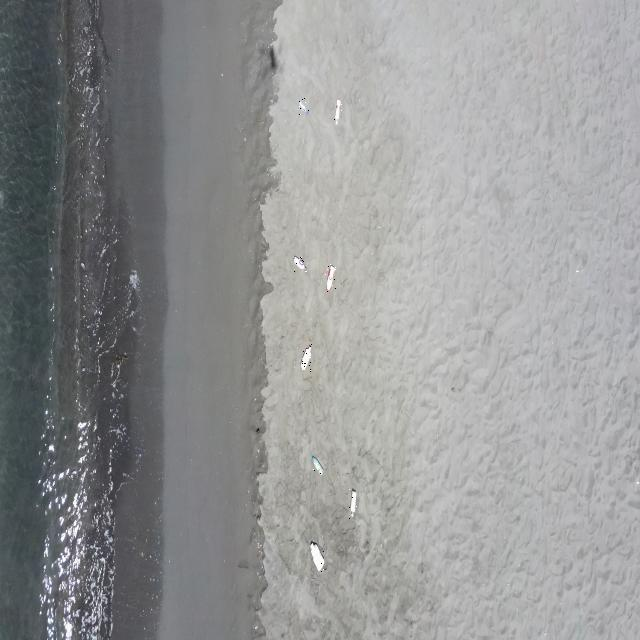Garbage: (310, 540, 324, 571), (324, 263, 335, 291), (300, 344, 311, 369), (292, 256, 306, 271), (312, 455, 323, 473), (348, 489, 355, 516), (333, 100, 340, 123), (299, 98, 307, 114)
